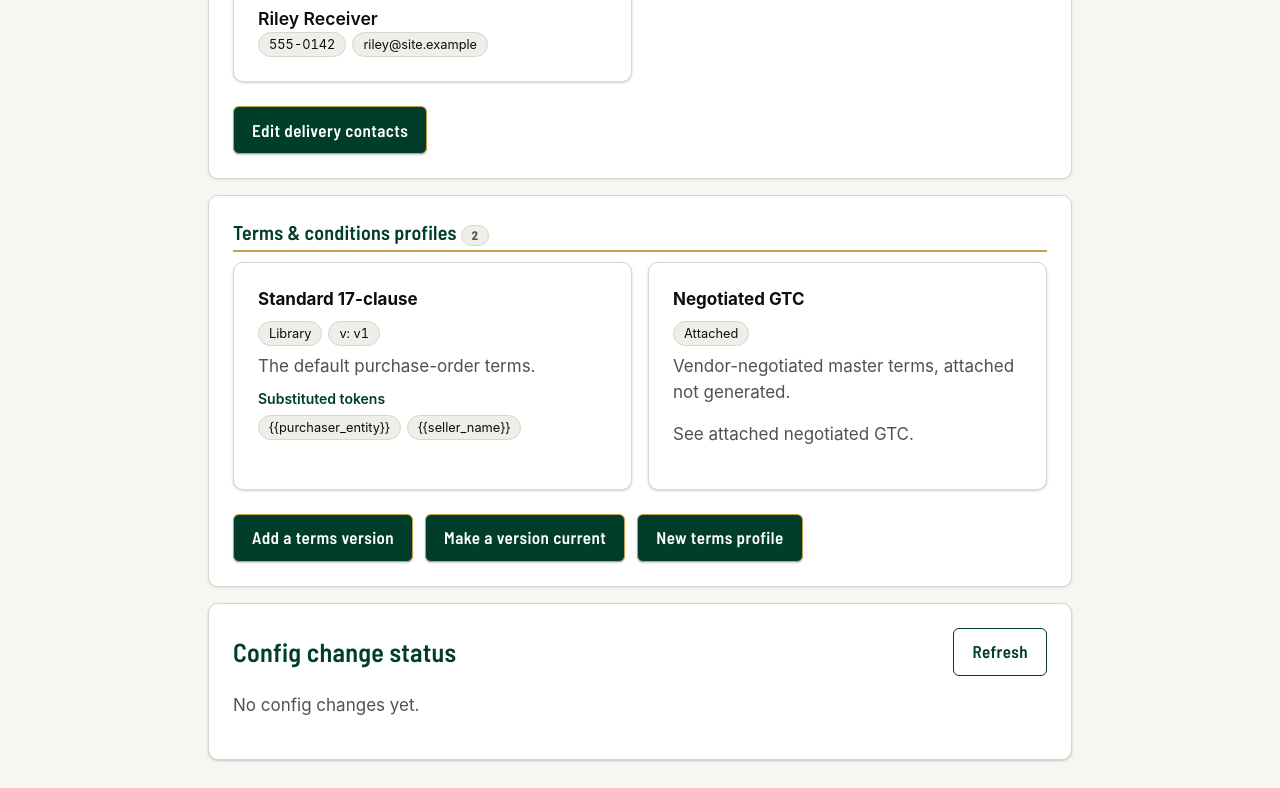
Scenario: PoConfigPage — editors (send-free enqueue) › pre-fills the terms textarea with the current version's text (edit-from-live)
The width and height of the screenshot is (1280, 788).
(page scrolled)
Expected: the text "Standard 17-clause" is shown, x1=258 y1=289 x2=418 y2=309
What coordinates should you click on to do the following:
click the button "Add a terms version"
I would click on:
 (323, 538)
Its box is x1=233 y1=514 x2=413 y2=562.
(page scrolled)
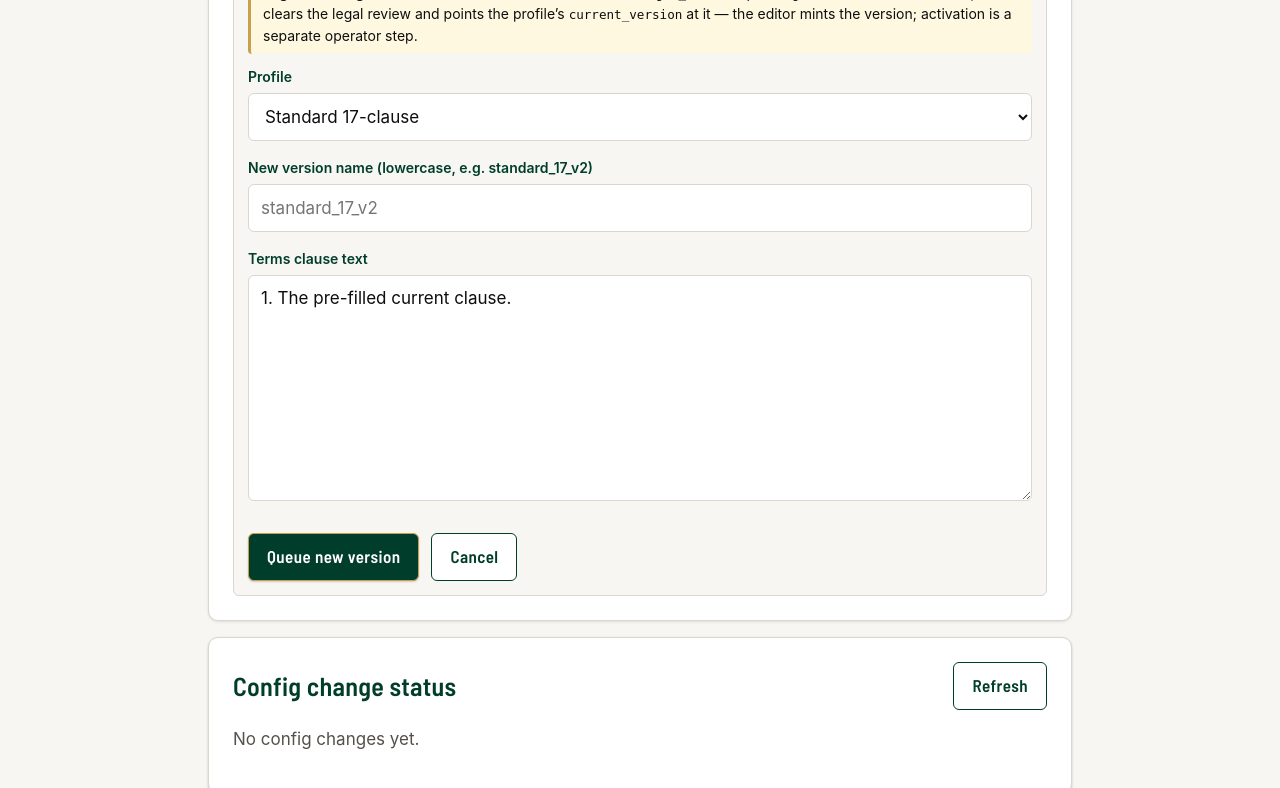
Expected: the text box labelled "Terms clause text" holds "1. The pre-filled current clause.", x1=248 y1=275 x2=1032 y2=501
